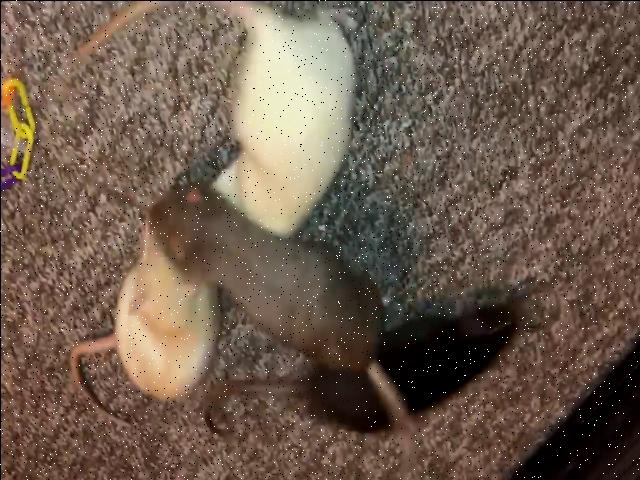Tikus: (156, 189, 382, 382), (71, 222, 201, 440), (334, 314, 532, 430)
